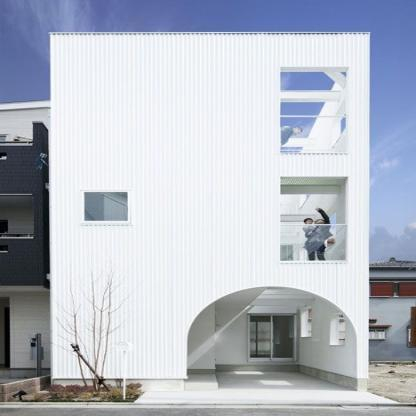Balcony: (280, 224, 349, 262), (280, 115, 349, 153)
Building Outline: (49, 32, 370, 393)
Door: (188, 286, 357, 392), (247, 314, 297, 361)
Facade: (49, 32, 370, 393)
Floor Slab: (49, 153, 370, 163), (50, 262, 371, 271)
Window: (280, 68, 349, 154), (280, 177, 349, 262), (84, 192, 128, 220)
